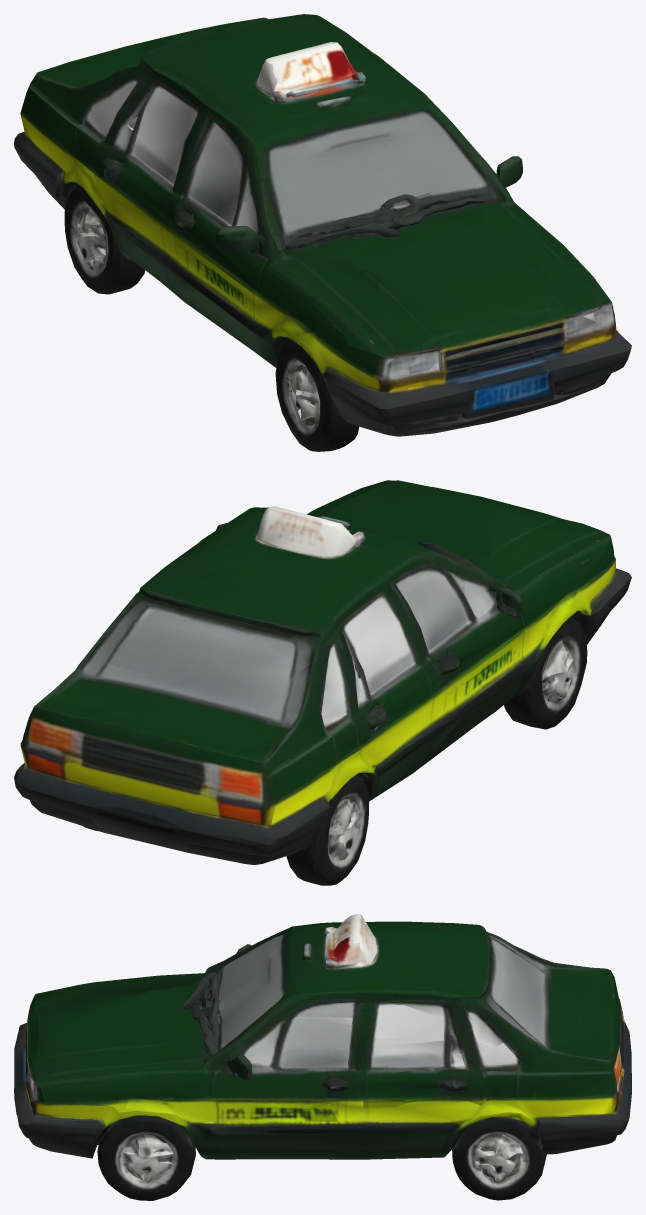
The model's file is taxi.glb.
3 views of the same model, one above another, from view 1: azimuth 30°, elevation 25°; view 2: azimuth 150°, elevation 25°; view 3: azimuth 270°, elevation 25° (orthographic). The views are drawn at different scales.
Visible parts, largest first — view 1: world; view 2: world; view 3: world.
Boxes of the visible parts, box(x1,y1,x2,y2) form: world: box(14, 14, 631, 451); world: box(14, 480, 631, 885); world: box(14, 914, 631, 1200).
Bounding box in the file's own units: 4.35 × 3.73 × 9.26.
1 material, 1 textured.
